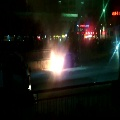fire: (46, 50, 64, 73)
